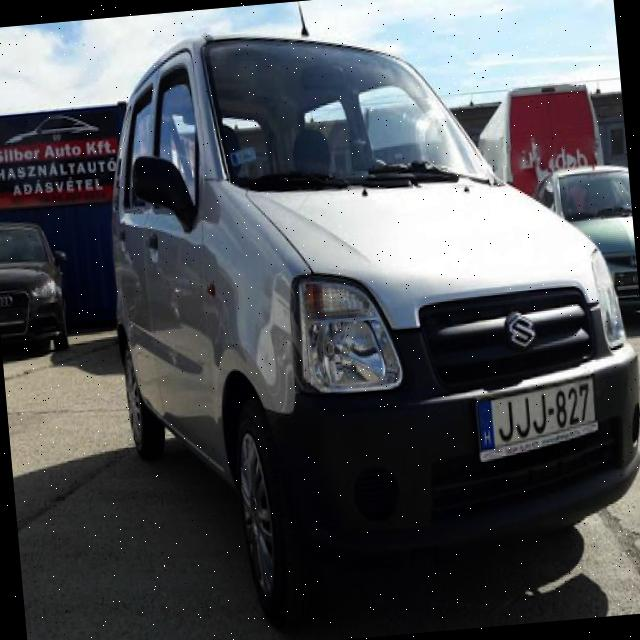licence: (471, 373, 603, 467)
